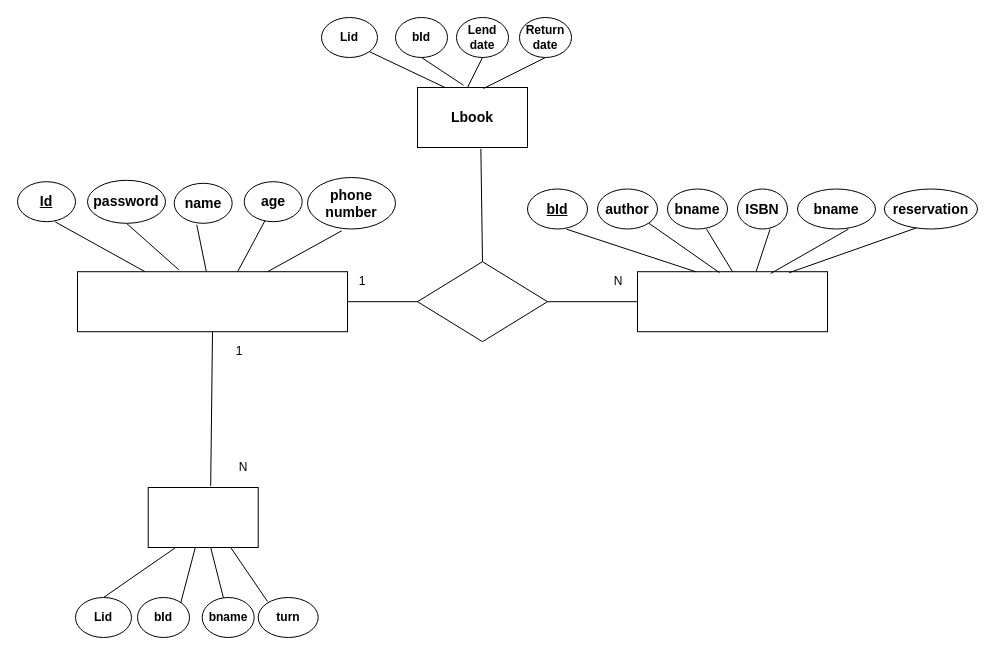
This 995x655 diagram has some shape labels left out. Each missing label, with the centre of its shape:
Book: point 732,301
Lend: point 482,301
Member: point 212,301
Reservedbook: point 202,517
